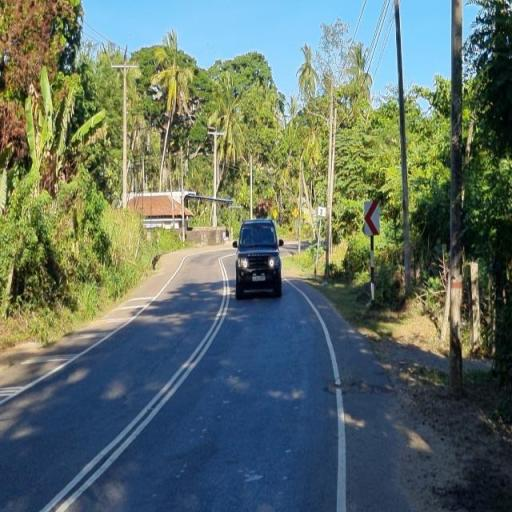double_white_line: (43, 250, 232, 512)
